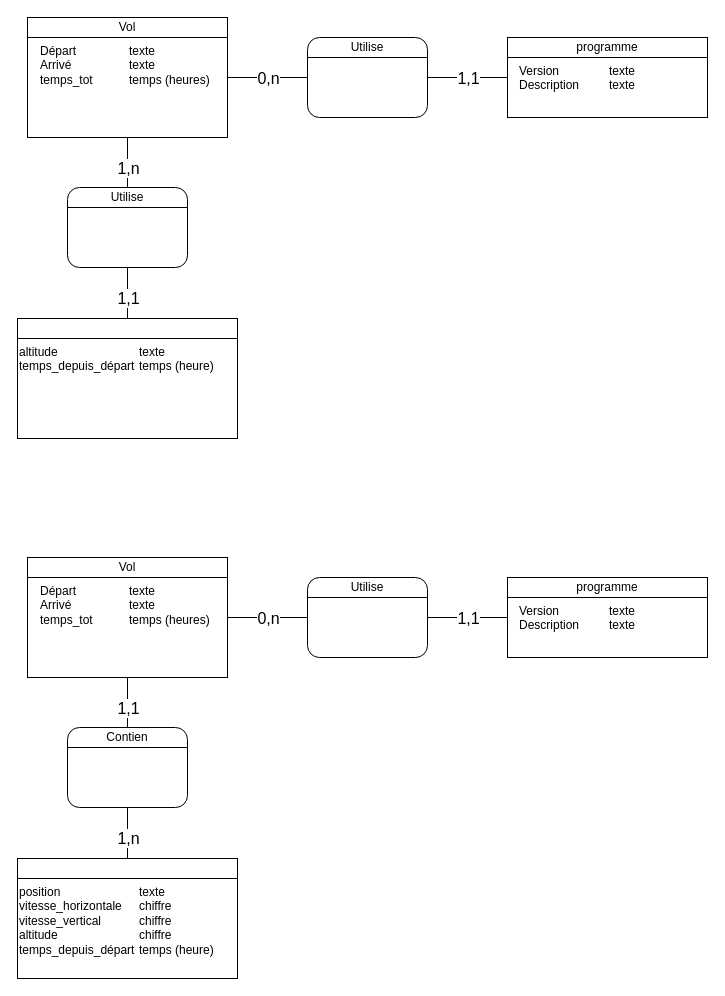
The diagram is 725 pixels wide and 996 high, and some of its shapes have lost their labels. The centre of each missing label's shape, as x and y in pixels:
Altitude: the point at 127,328
Donnée: the point at 127,868
